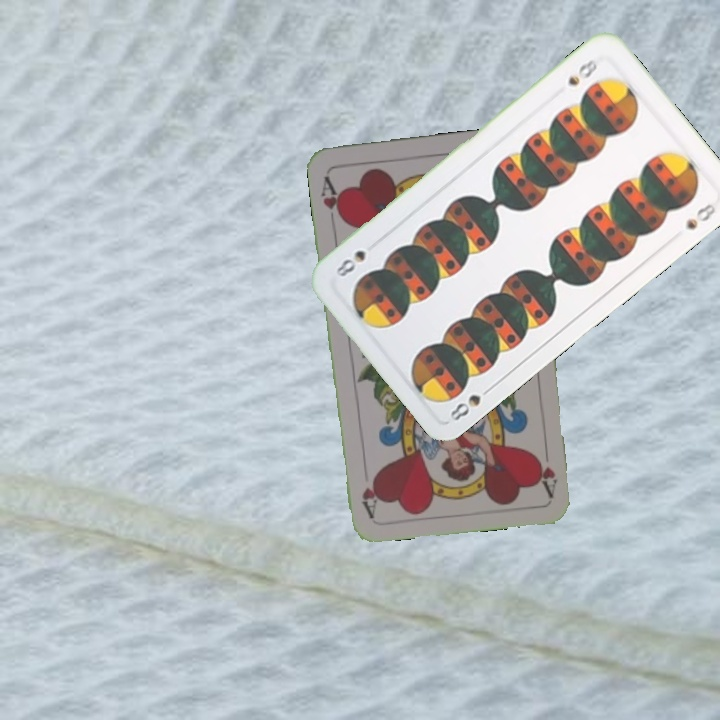HA: (530, 439, 560, 498), (316, 172, 347, 229)
S8: (445, 381, 497, 424), (564, 55, 600, 89)
